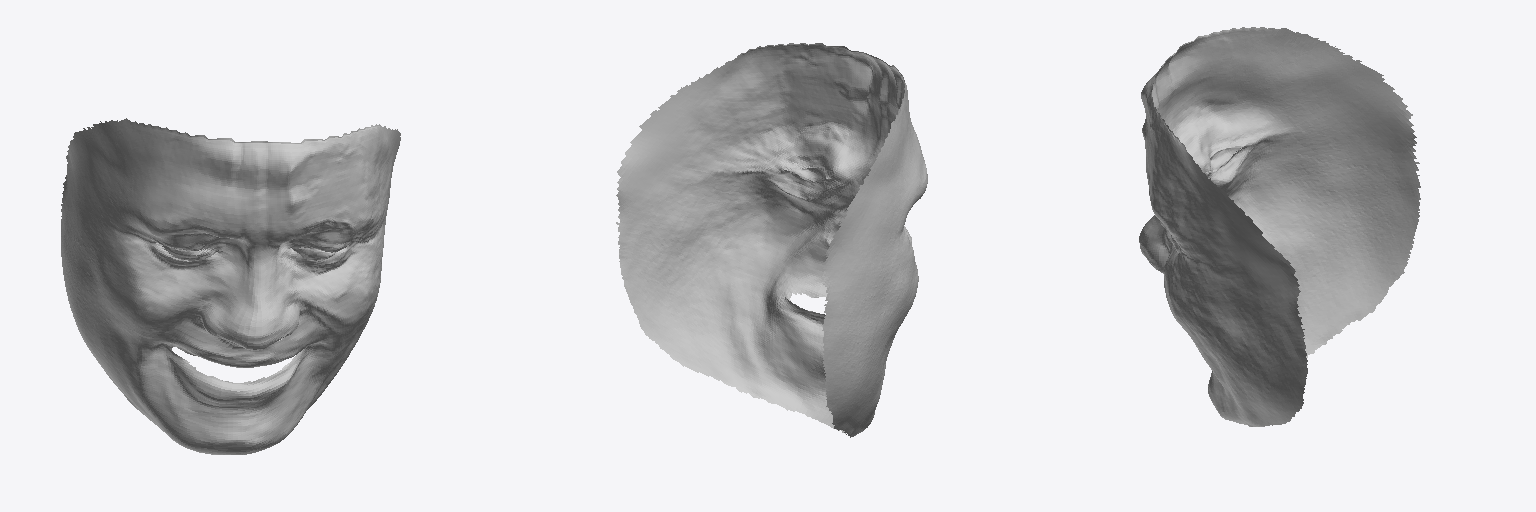
The model's file is 00034_0_hrn_high_mesh.obj.
3 renders of one model, left to right at view 1: azimuth 30°, elevation 25°; view 2: azimuth 150°, elevation 25°; view 3: azimuth 270°, elevation 25°, orthographic.
Bounding box in the file's own units: 1.48 × 1.71 × 1.26.